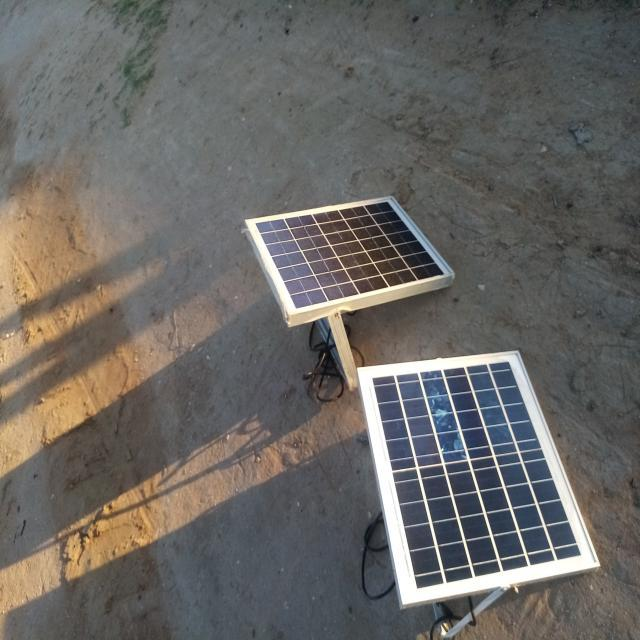no faulty: (362, 355, 597, 601), (246, 198, 453, 317)
